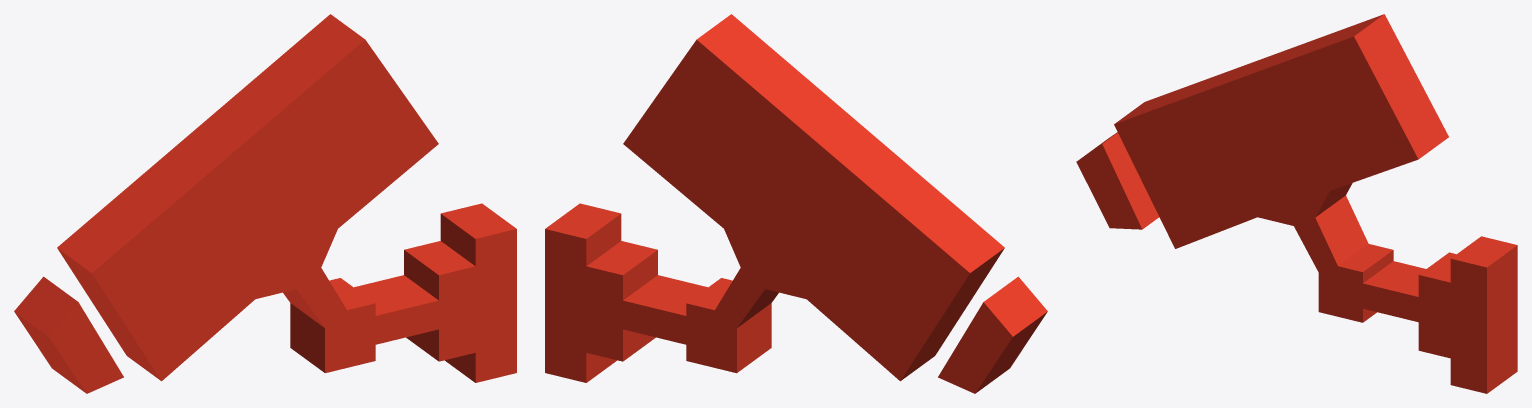
File: Icon_SurveillanceCamera.fbx
The picture shows the model from 3 angles, left to right: view 1: azimuth 30°, elevation 25°; view 2: azimuth 150°, elevation 25°; view 3: azimuth 330°, elevation 25°; orthographic projection. The views are drawn at different scales.
Parts seen in each view (by area): view 1: Icon_SurveillanceCamera; view 2: Icon_SurveillanceCamera; view 3: Icon_SurveillanceCamera.
Part boxes in pixels (bbox=[...]): Icon_SurveillanceCamera: bbox=[14, 14, 516, 393]; Icon_SurveillanceCamera: bbox=[545, 14, 1047, 393]; Icon_SurveillanceCamera: bbox=[1076, 14, 1517, 393].
Size of the model in its own units: 93.41 by 70.65 by 12.06.
